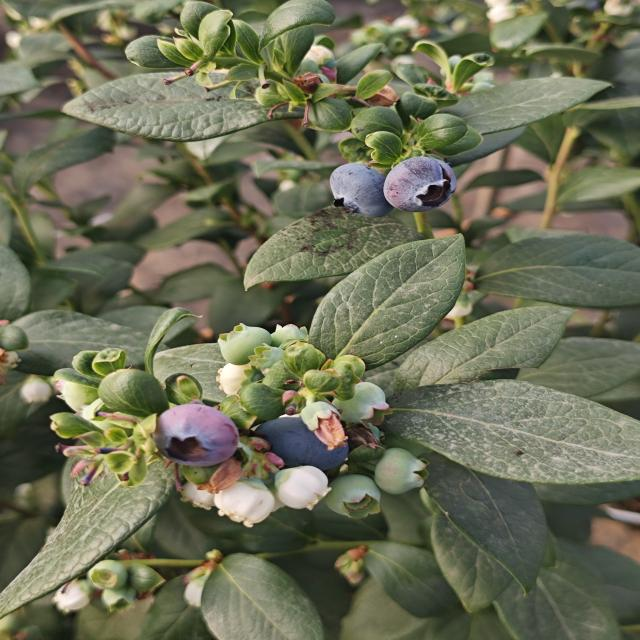ripe: (250, 412, 352, 473), (150, 402, 242, 469), (381, 155, 459, 215), (326, 161, 394, 220)
